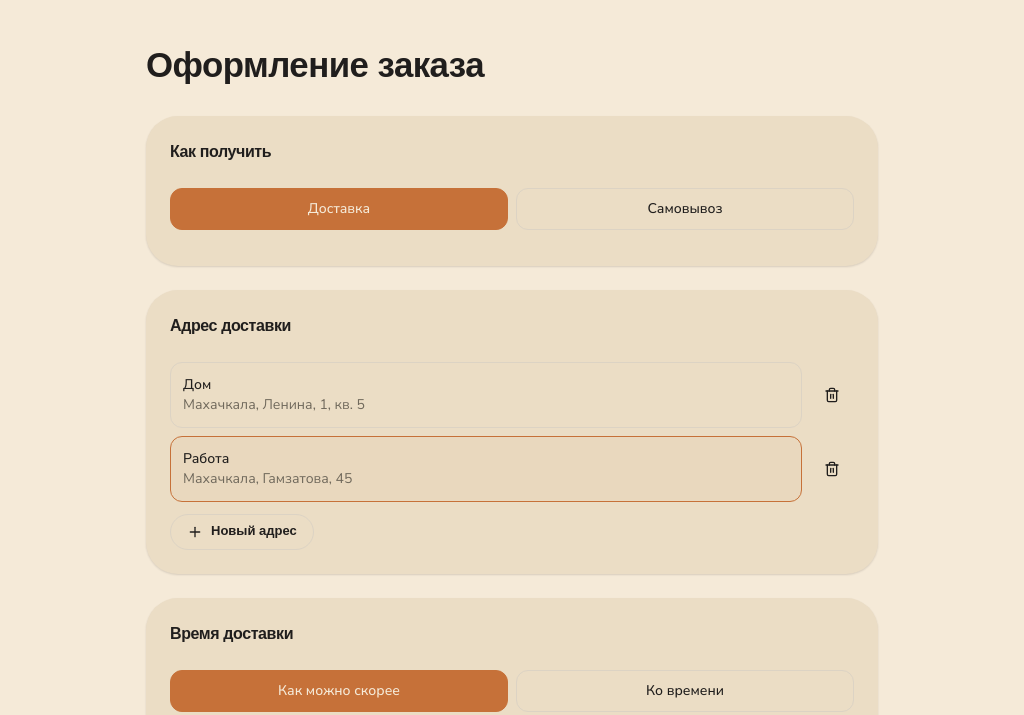
CheckoutPage — address › opens the new-address form on request
Click the button "Новый адрес" at (242, 532), box [170, 514, 314, 550]
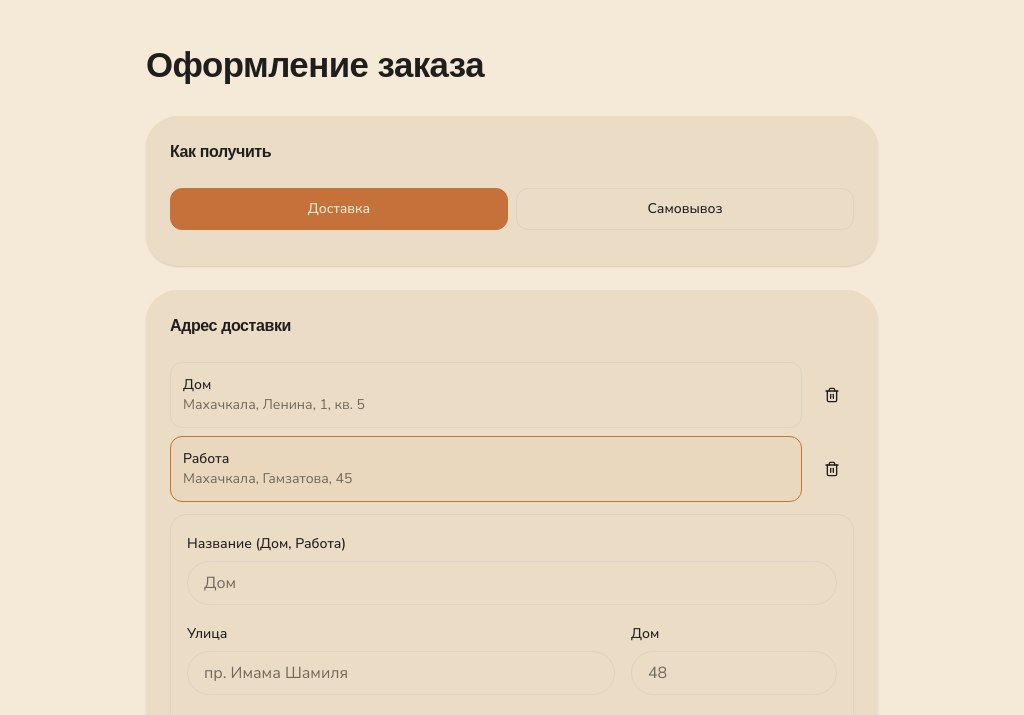
Now the field labelled "Улица" is shown, box [187, 651, 615, 695]
